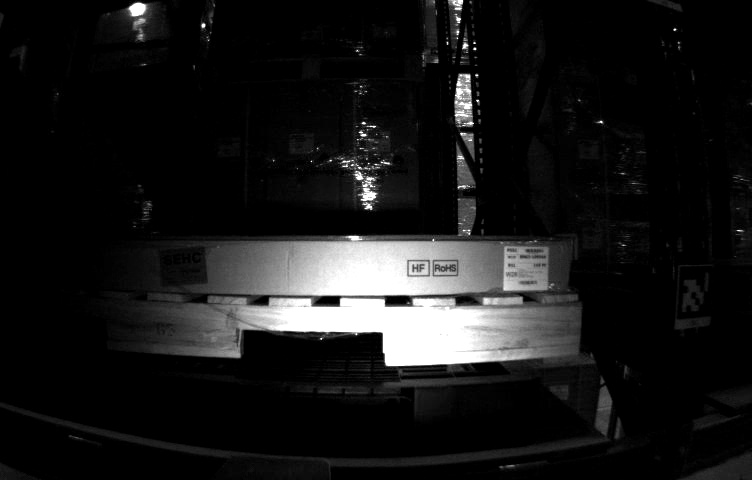True Barcode: (504, 243, 552, 291)
